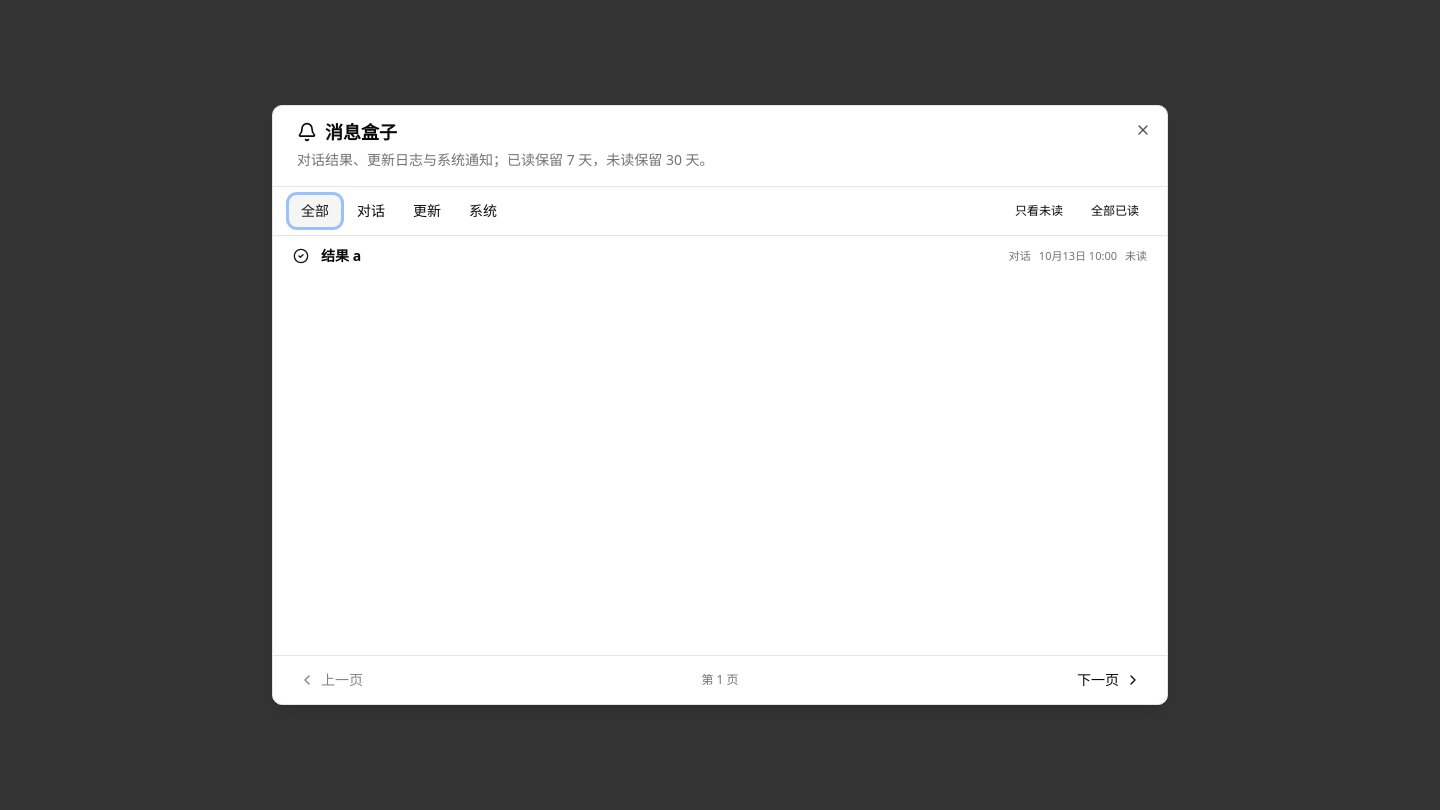
Test: 消息盒子 › 按游标翻到下一页，再回到上一页
Expected: the text "结果 a" is shown, [321, 246, 361, 266]
Expected: the text "第 1 页" is shown, [701, 672, 738, 688]
Click the button "下一页".
click(1109, 680)  # box [1067, 664, 1151, 696]
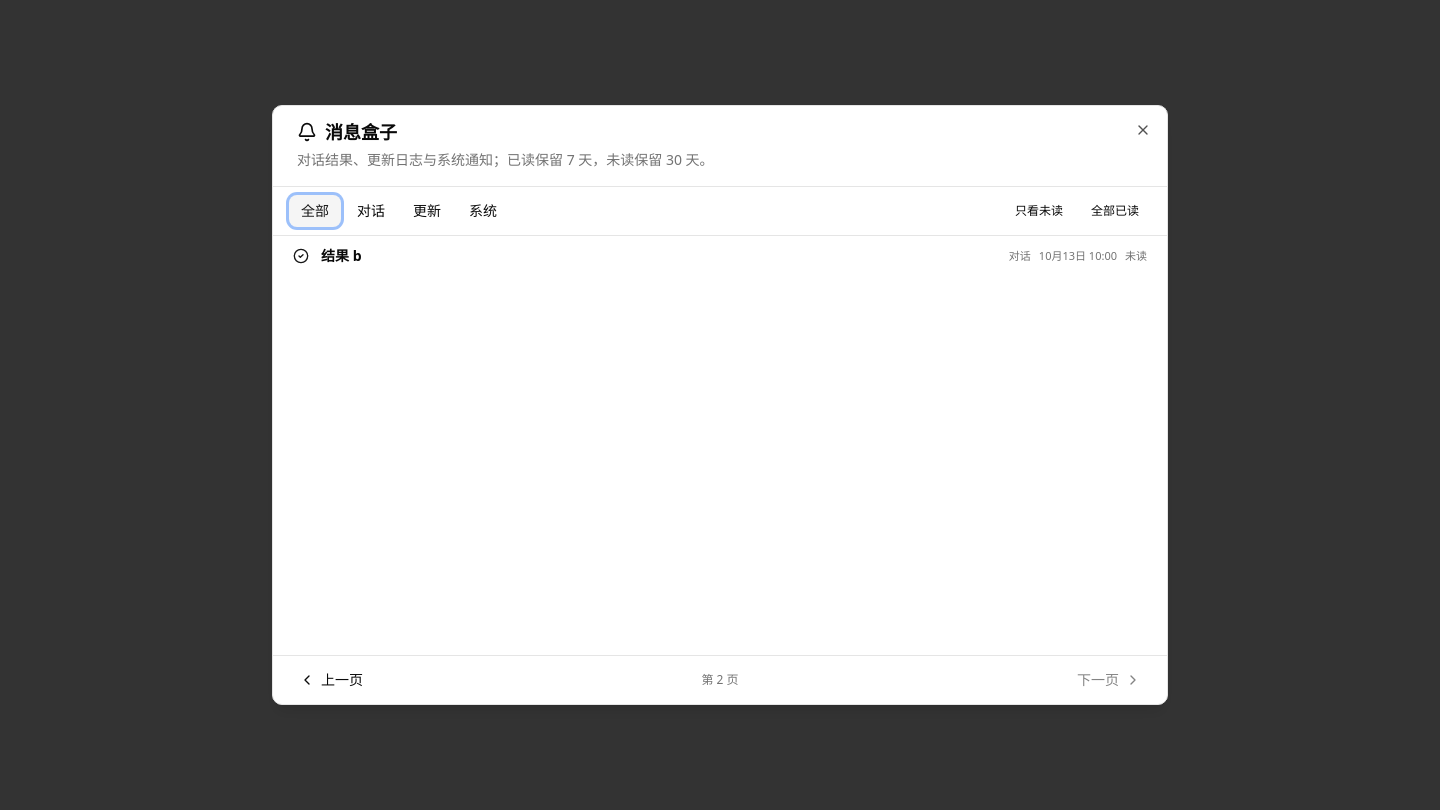
Now the text "结果 b" is shown, box [321, 246, 362, 266]
Now the text "第 2 页" is shown, box [701, 672, 738, 688]
Now the button "下一页" is disabled, box [1067, 664, 1151, 696]
Click the button "上一页".
click(331, 680)  # box [289, 664, 373, 696]
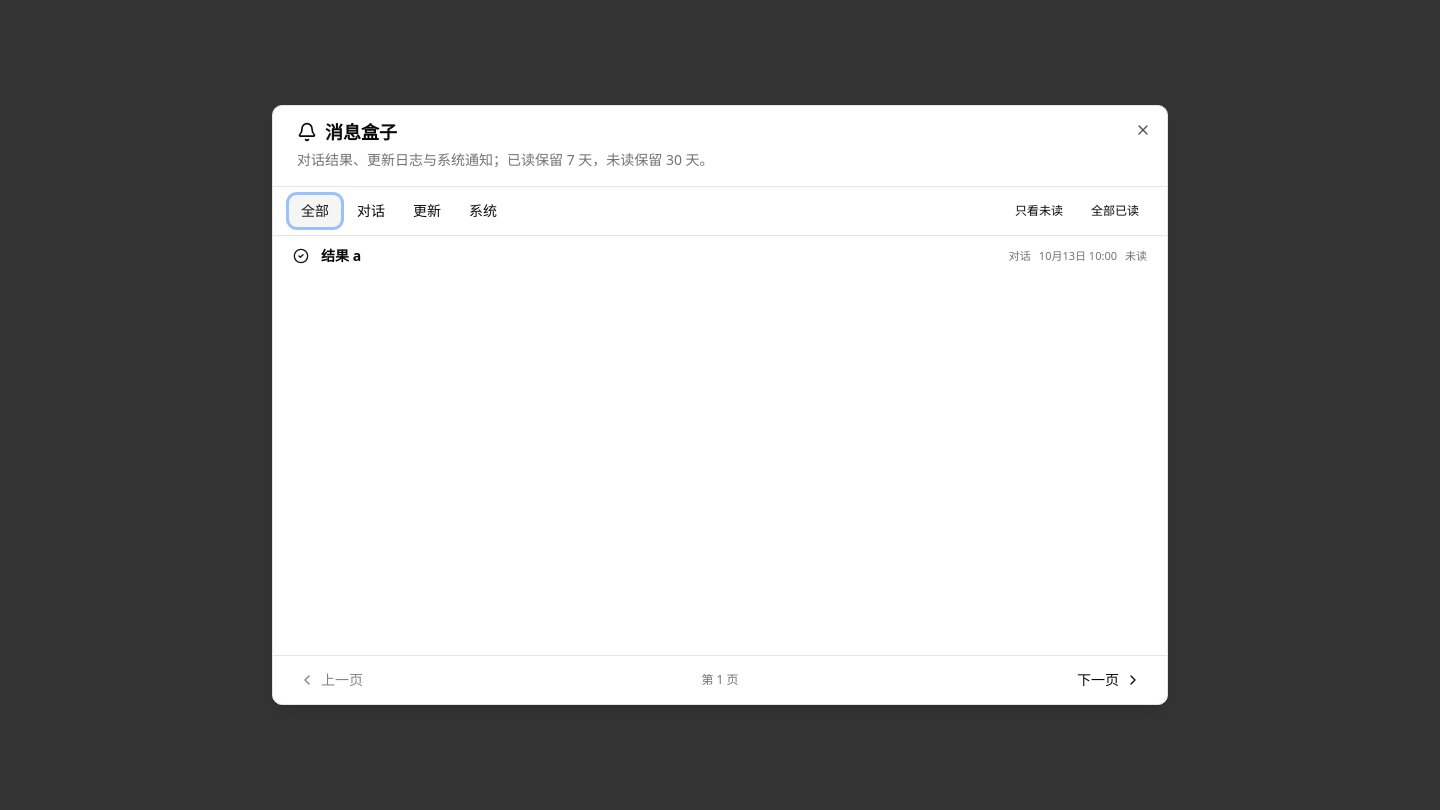
Now the text "结果 a" is shown, box [321, 246, 361, 266]
Now the text "第 1 页" is shown, box [701, 672, 738, 688]
